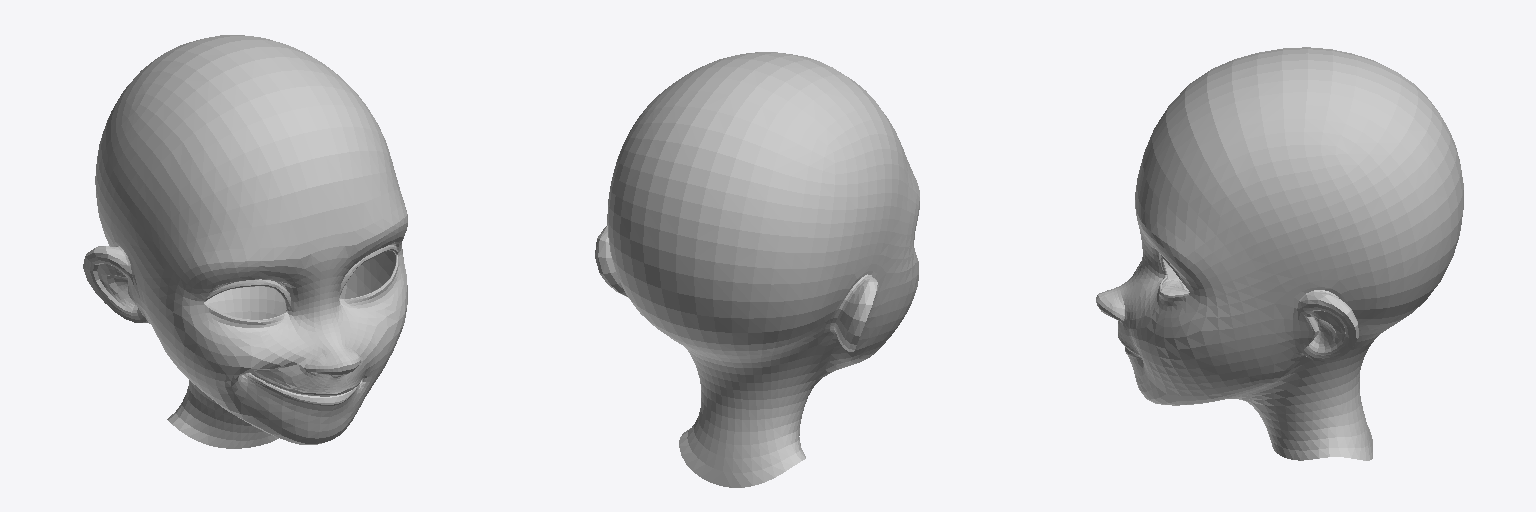
The model's file is Mery_r_smile.obj.
The picture shows the model from 3 angles: view 1: azimuth 30°, elevation 25°; view 2: azimuth 150°, elevation 25°; view 3: azimuth 270°, elevation 25°; orthographic projection.
Bounding box in the file's own units: 23.75 × 32.31 × 27.53.